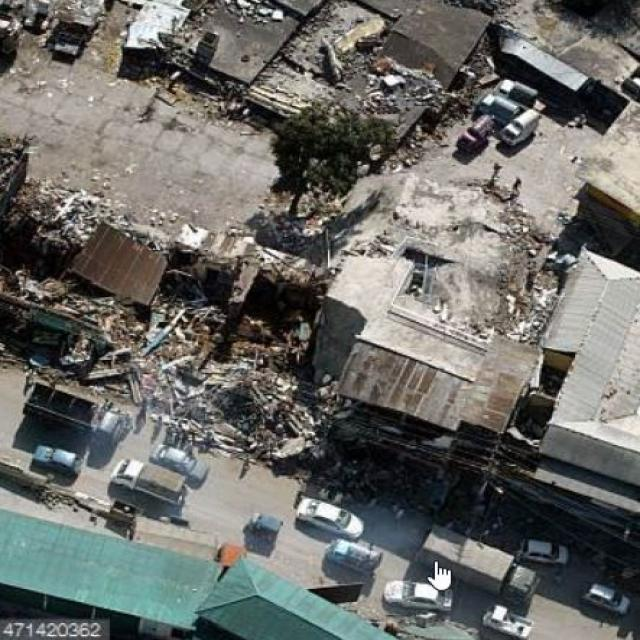collapsed_building: (0, 171, 334, 415), (164, 0, 479, 116), (383, 165, 552, 344)
